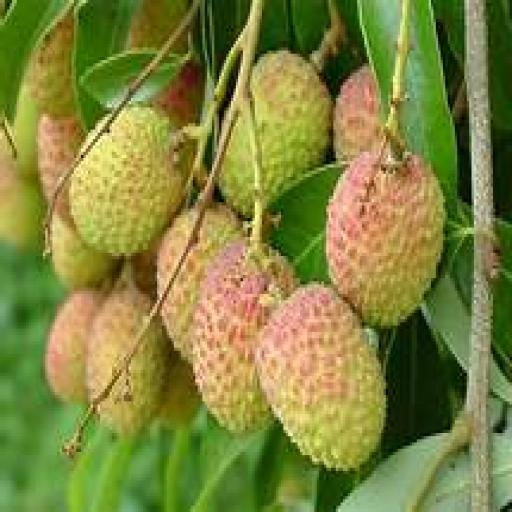lychee: (254, 285, 384, 470), (326, 152, 444, 325), (192, 241, 294, 432), (69, 105, 182, 255), (159, 203, 241, 360), (250, 51, 330, 205), (97, 320, 170, 436), (45, 291, 101, 401), (50, 212, 115, 287), (26, 13, 72, 116), (333, 67, 382, 161), (38, 114, 82, 202), (0, 165, 44, 249), (154, 61, 203, 129), (157, 351, 199, 426), (128, 0, 187, 47)
